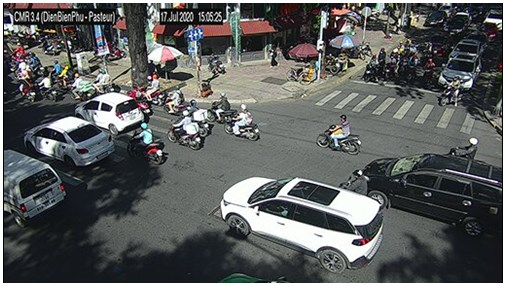xe_hoi: (219, 176, 384, 274), (365, 153, 502, 236), (22, 115, 115, 171), (74, 91, 145, 136), (439, 52, 482, 93), (449, 38, 482, 62), (443, 14, 469, 36), (426, 9, 446, 27)
xe_khach: (4, 148, 66, 229)
xe_may: (317, 114, 361, 155), (127, 122, 162, 164), (167, 111, 203, 150), (224, 104, 260, 141), (206, 93, 236, 123), (187, 100, 209, 136), (129, 84, 151, 119), (445, 137, 478, 160), (341, 170, 370, 196), (141, 74, 164, 106), (441, 77, 465, 106), (17, 71, 38, 103), (38, 73, 58, 101), (71, 74, 89, 101), (93, 69, 114, 92), (55, 66, 75, 89), (364, 54, 379, 80), (422, 59, 435, 88), (385, 56, 396, 82), (49, 61, 62, 79), (400, 50, 408, 75)
